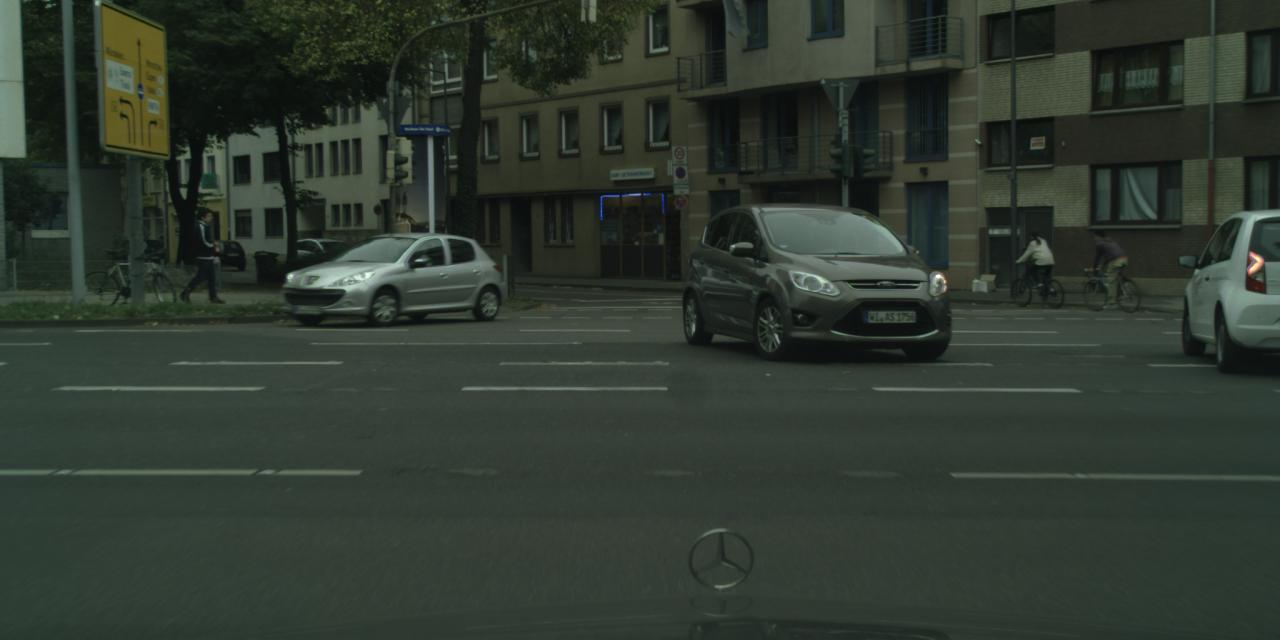ped: (184, 208, 221, 300), (1093, 230, 1121, 298), (1025, 228, 1050, 290)
